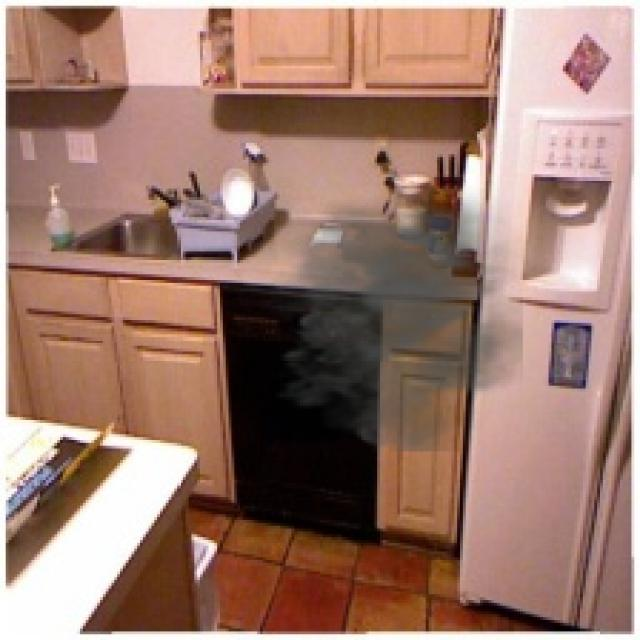smoke: (248, 183, 523, 451)
